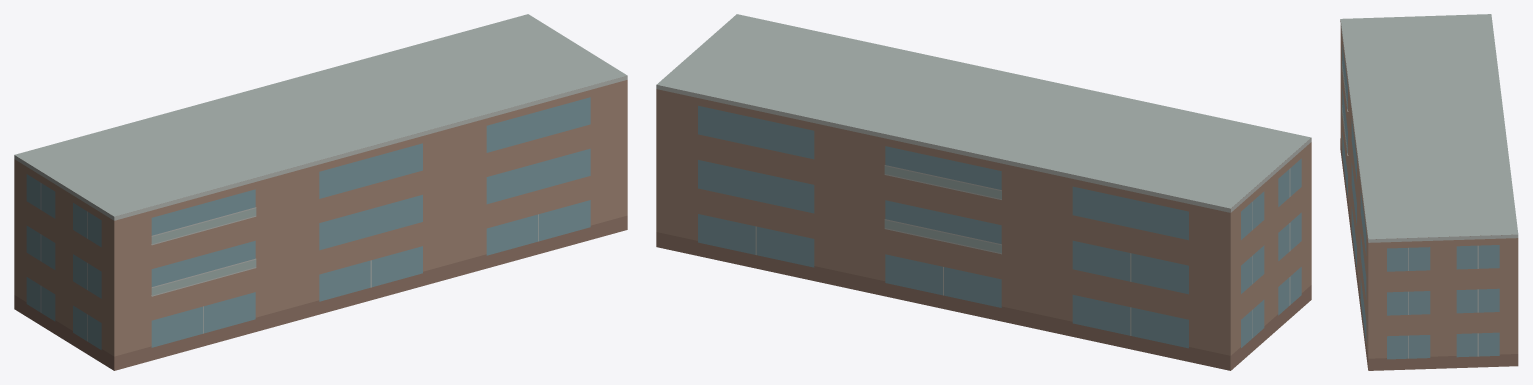
File: survey-upis-32629997.glb
3 renders of one model, left to right at view 1: azimuth 30°, elevation 25°; view 2: azimuth 150°, elevation 25°; view 3: azimuth 270°, elevation 25°, orthographic. The views are drawn at different scales.
Parts seen in each view (by area): view 1: survey-upis-32629997.tmp; view 2: survey-upis-32629997.tmp; view 3: survey-upis-32629997.tmp.
Boxes of the visible parts, bbox=[...] form: survey-upis-32629997.tmp: bbox=[14, 14, 627, 370]; survey-upis-32629997.tmp: bbox=[656, 14, 1311, 370]; survey-upis-32629997.tmp: bbox=[1340, 14, 1518, 370].
Size of the model in its own units: 33.63 by 9.15 by 11.22.
